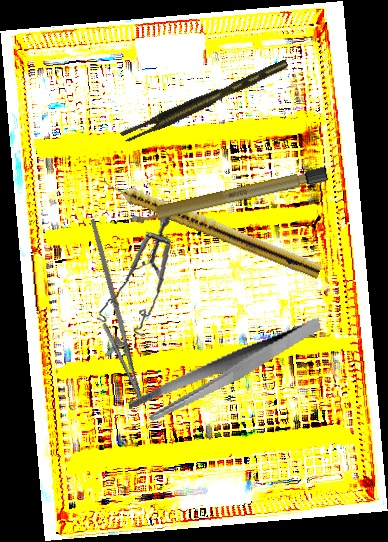Dressing Forceps: (118, 316, 333, 426)
Handpiece: (98, 172, 325, 280)
Needle Holder: (55, 218, 166, 410)
Scalpel Handle: (124, 164, 331, 228)
Speculum: (87, 206, 183, 342)
Tissue Forceps: (117, 59, 293, 144)
